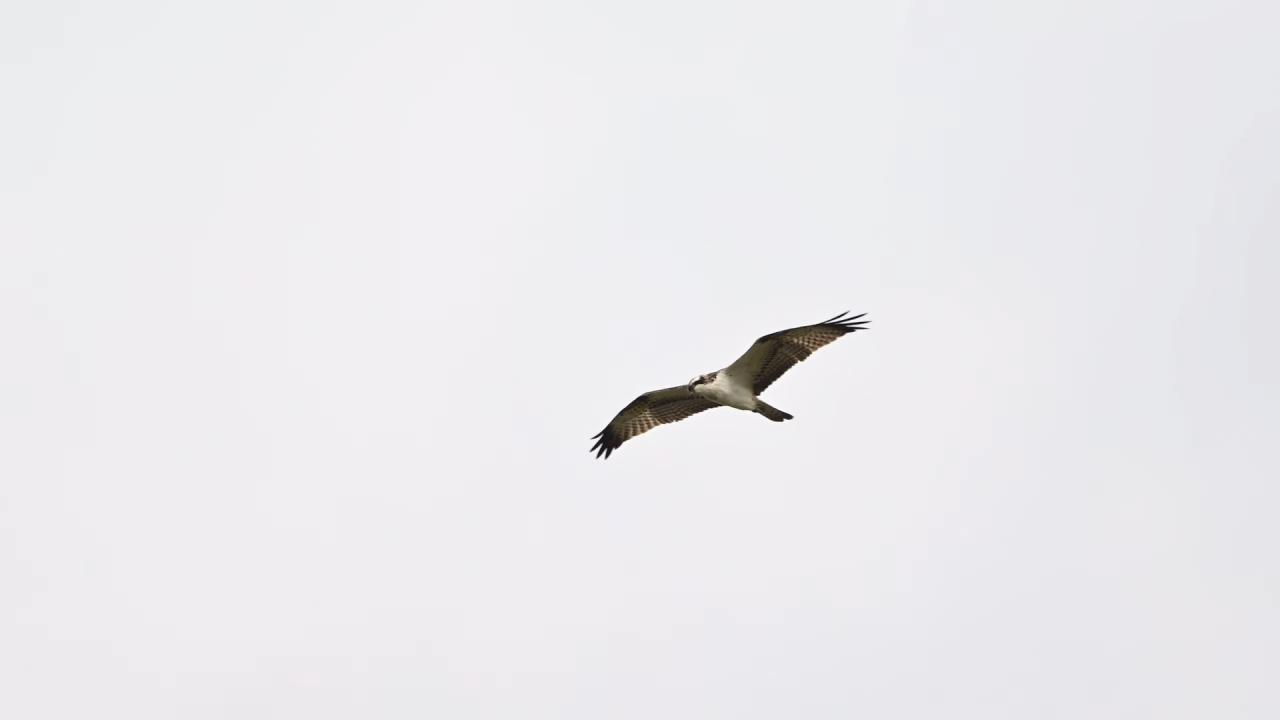Bird: (572, 300, 900, 475)
